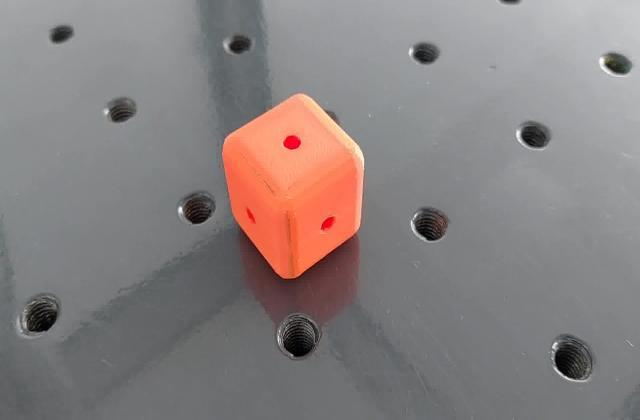cube: (218, 90, 366, 285)
